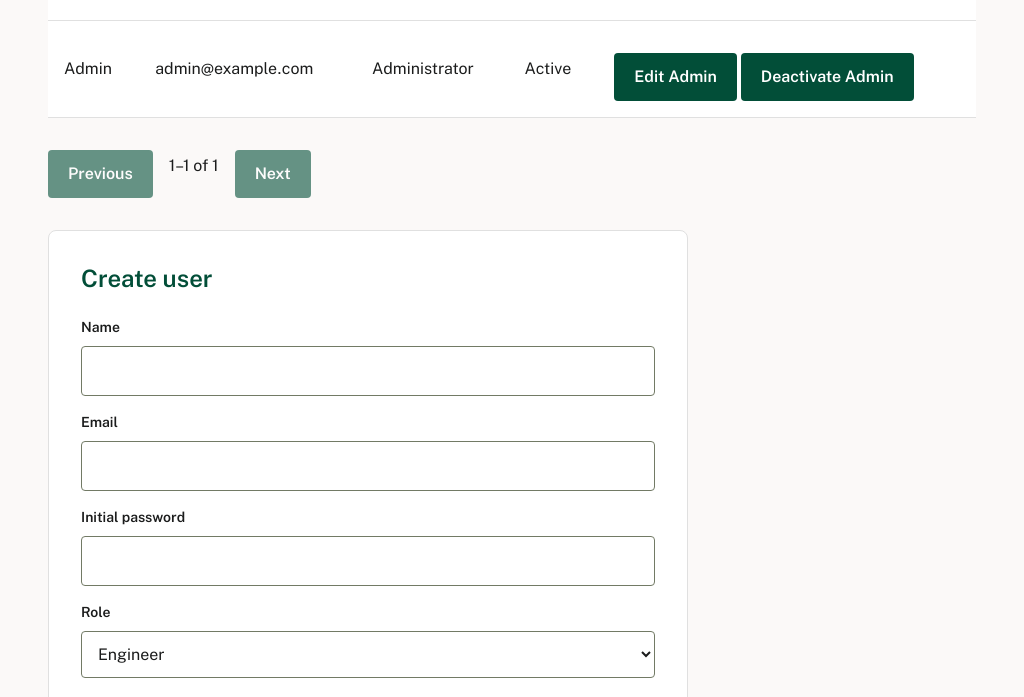
Test: administration and audit › creates a user with portfolio assignment
(page scrolled)
In the field labelled "Name": (368, 371) [81,346,655,396], type "New Person"
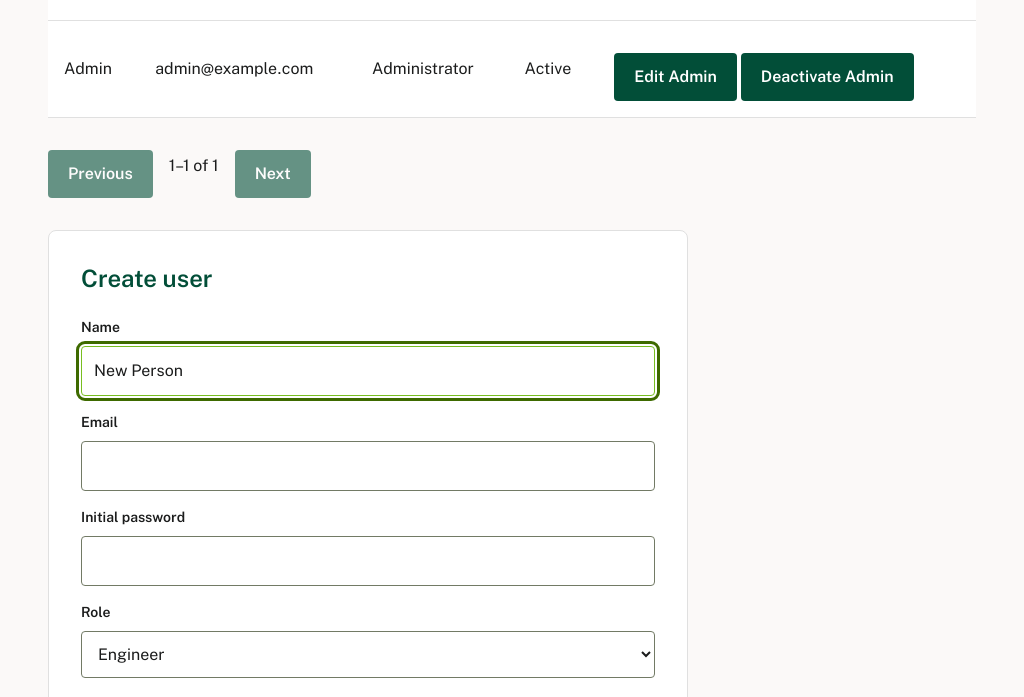
In the field labelled "Email": (368, 466) [81,441,655,491], type "person@example.com"
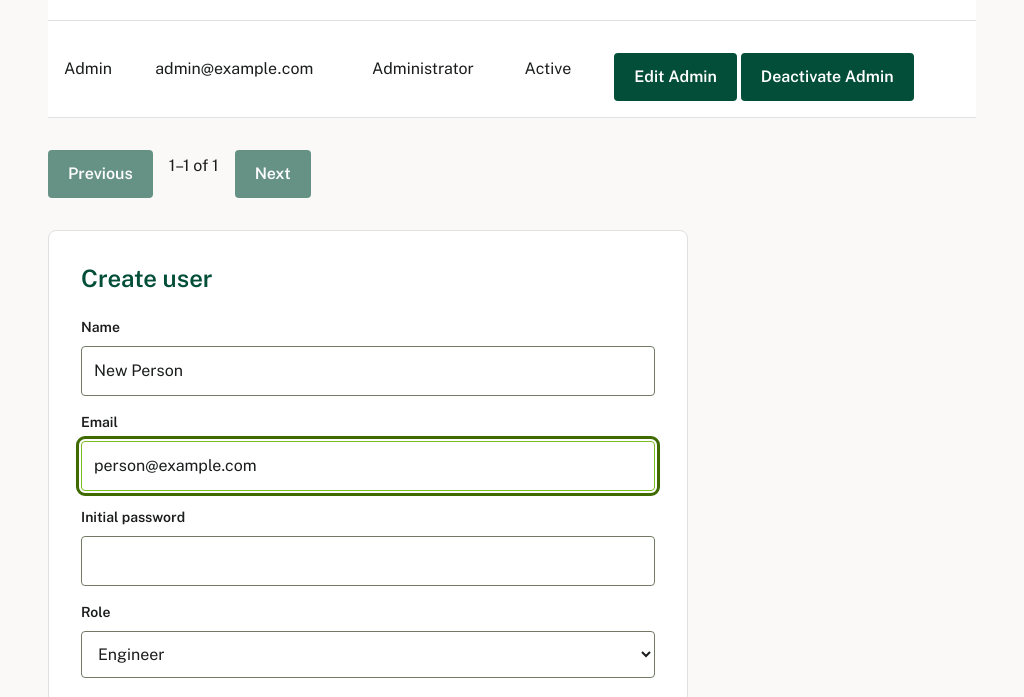
In the password field labelled "Initial password": (368, 561) [81,536,655,586], type "Very-Strong-Password123!"
(page scrolled)
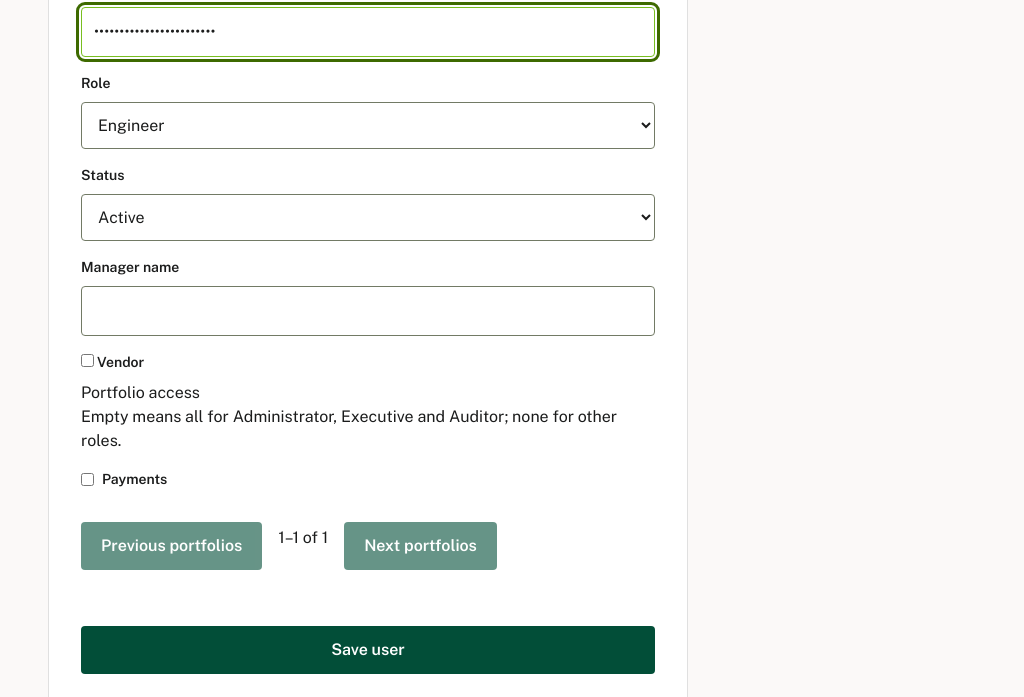
Click the checkbox labelled "Payments": (88, 480) [81,473,94,486]
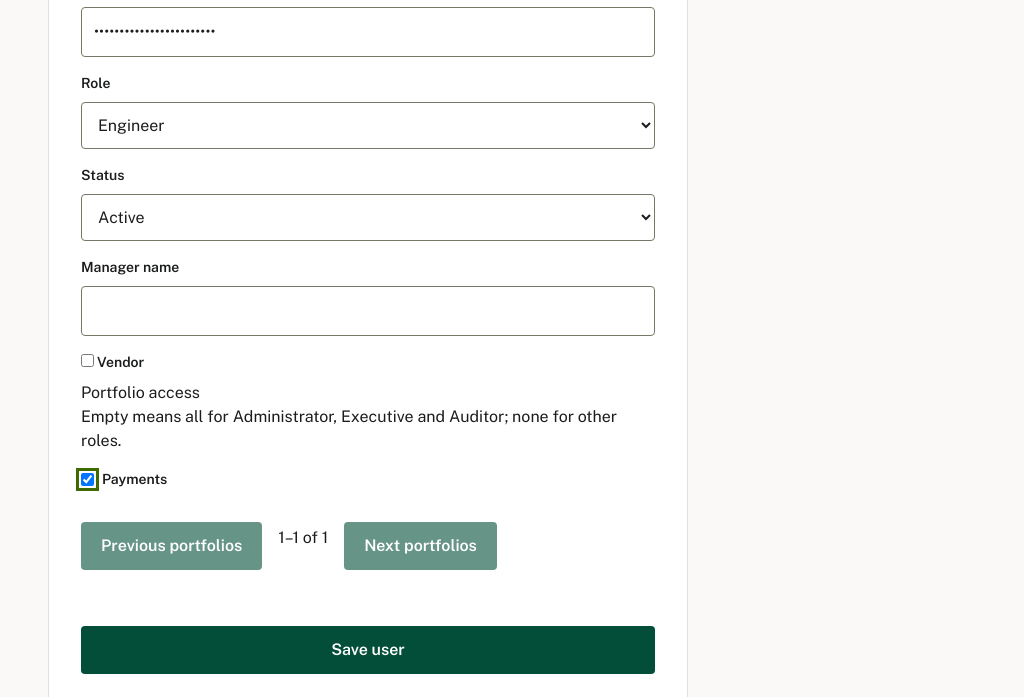
Click the button "Save user": (368, 650) [81,626,655,674]
(page scrolled)
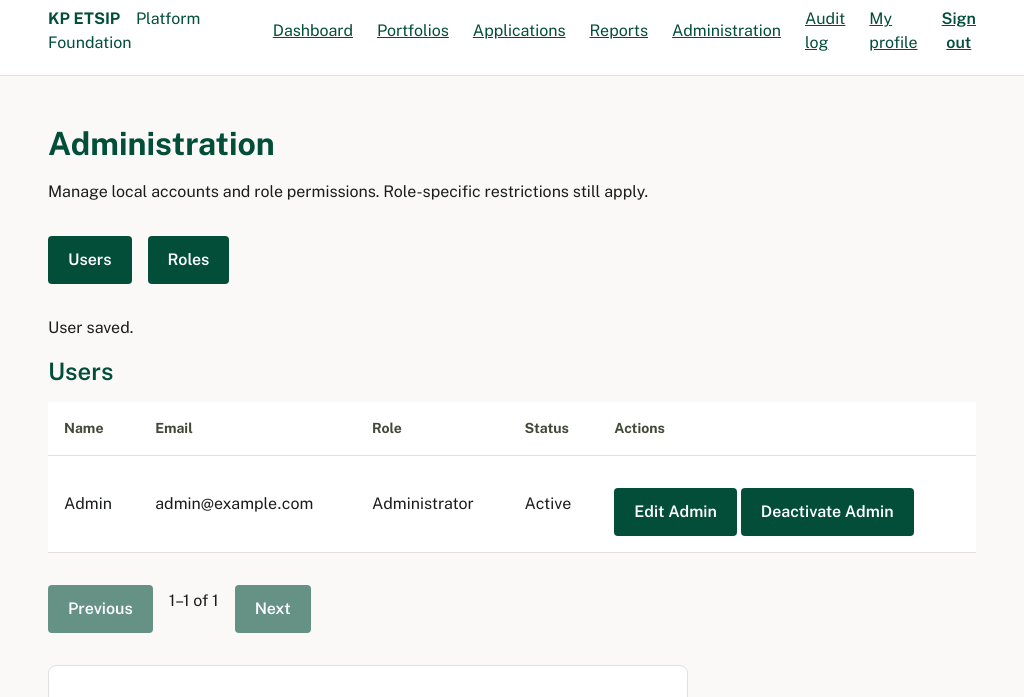
Expected: the text "User saved." is shown, [48,318,133,337]
